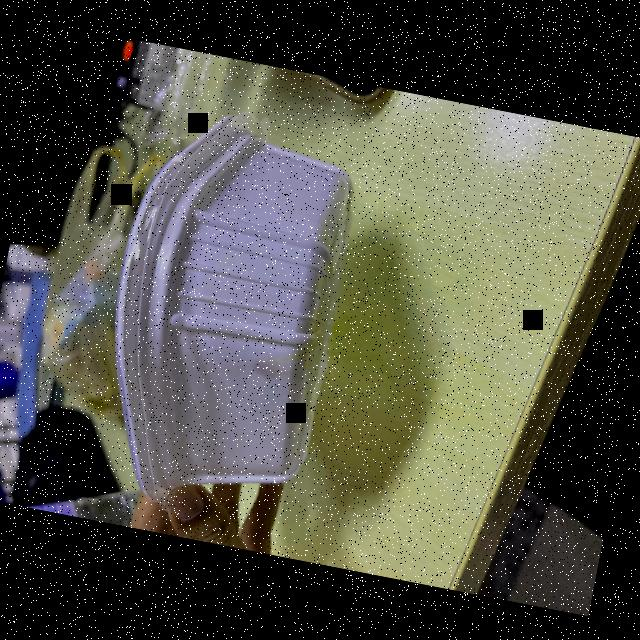plastic_box: (67, 87, 384, 540)
